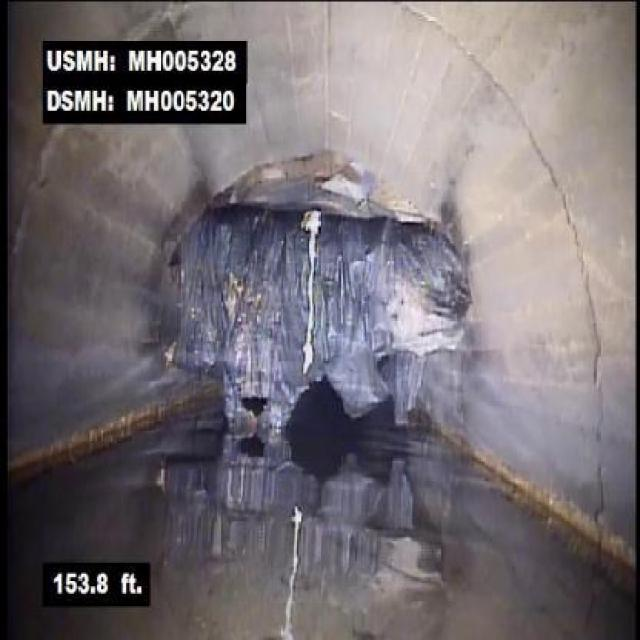Utility intrusion: (172, 203, 472, 315)
